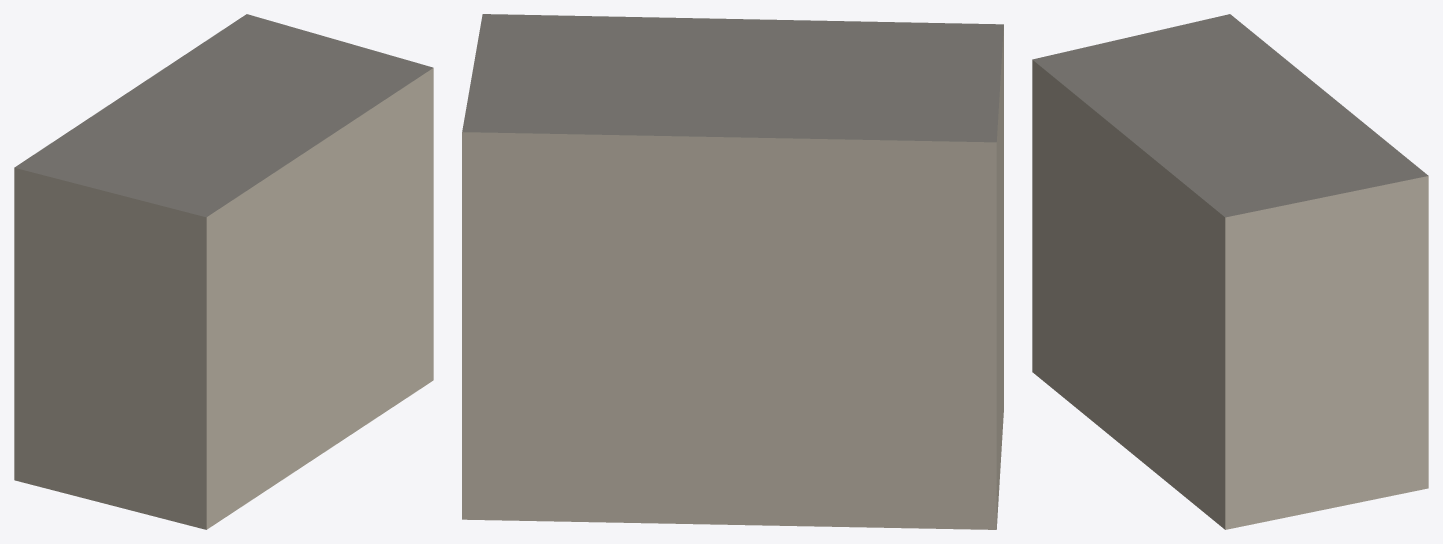
3 views of the same model, side by side, from view 1: azimuth 30°, elevation 25°; view 2: azimuth 150°, elevation 25°; view 3: azimuth 270°, elevation 25° (orthographic). The views are drawn at different scales.
Parts seen in each view (by area): view 1: HP-w378107115; view 2: HP-w378107115; view 3: HP-w378107115.
Boxes of the visible parts, left/top/right/bottom form: HP-w378107115: left=14, top=14, right=433, bottom=529; HP-w378107115: left=462, top=14, right=1003, bottom=529; HP-w378107115: left=1032, top=14, right=1428, bottom=529.
Size of the model in its own units: 25.14 by 18 by 20.7.
